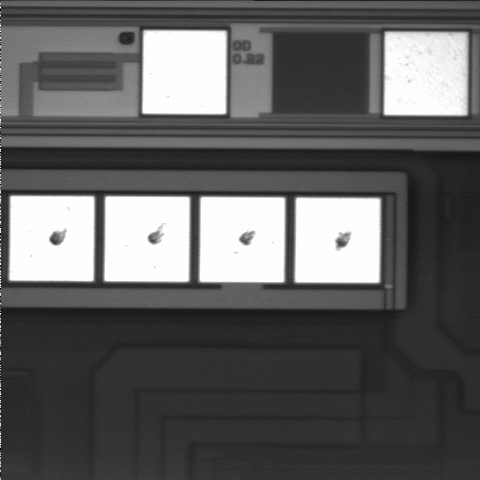pad: (104, 197, 190, 282), (9, 196, 94, 281), (200, 197, 285, 282), (295, 198, 380, 283), (143, 31, 226, 114), (384, 32, 467, 115)
